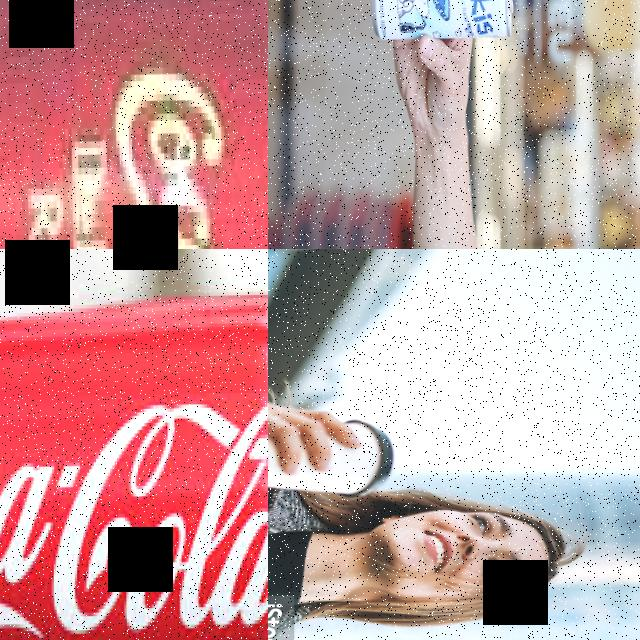can: (0, 287, 268, 640), (368, 0, 514, 44)
cup: (268, 418, 391, 497)
